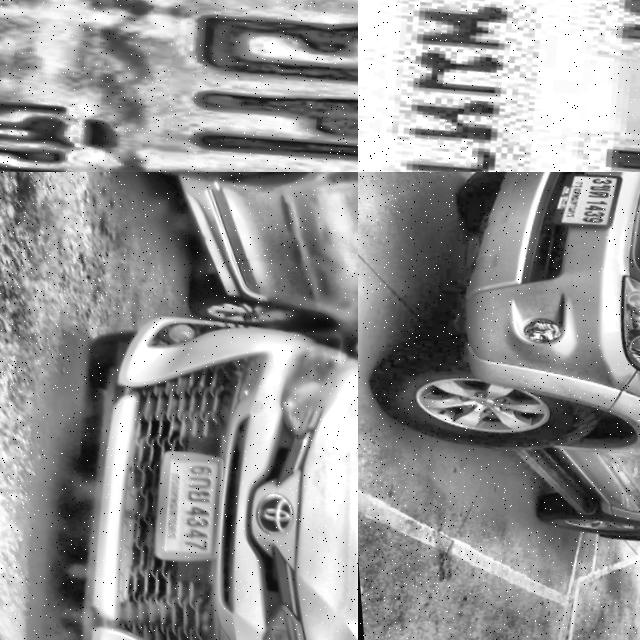license-plate: (0, 0, 358, 172), (358, 0, 640, 172), (140, 452, 231, 577), (547, 172, 625, 239)
